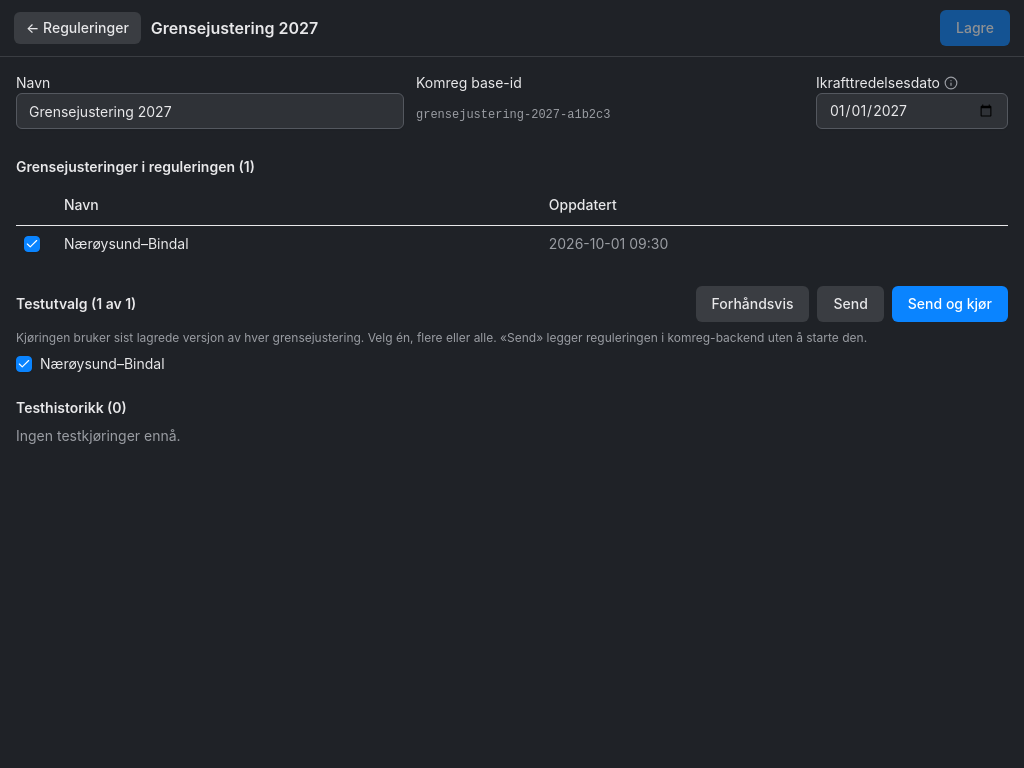
it: ReguleringView › refuses to send a list whose target kommune does not exist, and says which list
This screenshot has width=1024, height=768.
Expected: the heading "Testutvalg (1 av 1)" is shown, [16,294,136,314]
Click the button "Send og kjør" at (950, 304), box [892,286,1008,322]
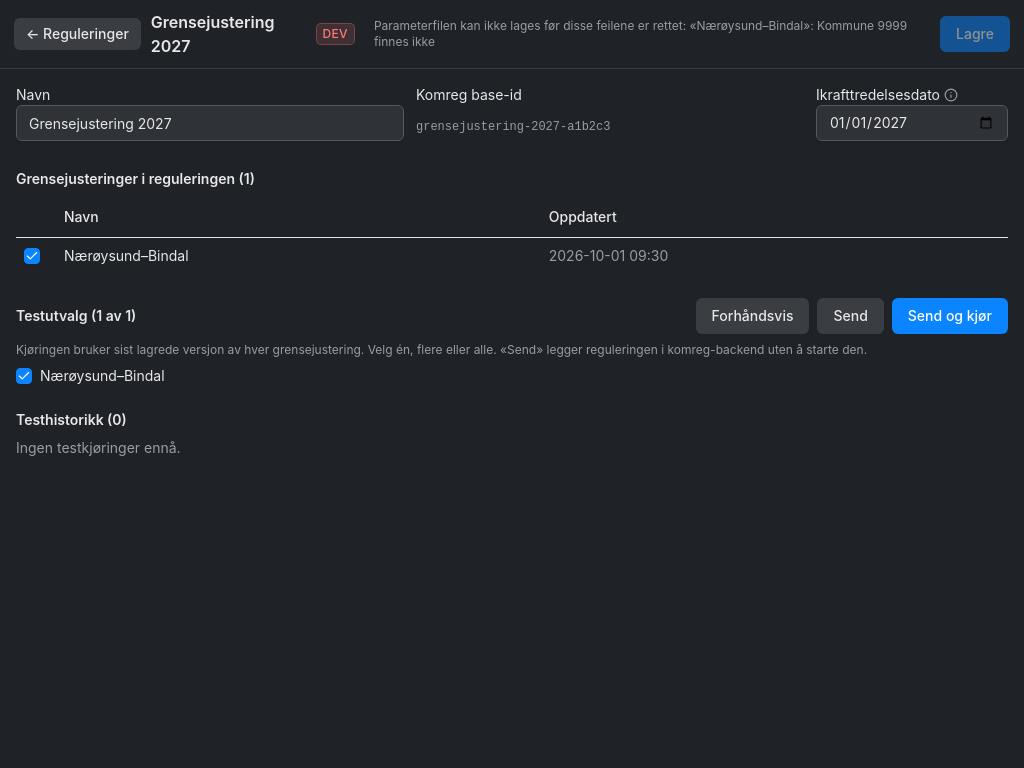
Expected: the text "Parameterfilen kan ikke lages" shows "«Nærøysund–Bindal»", [374,18,907,49]
